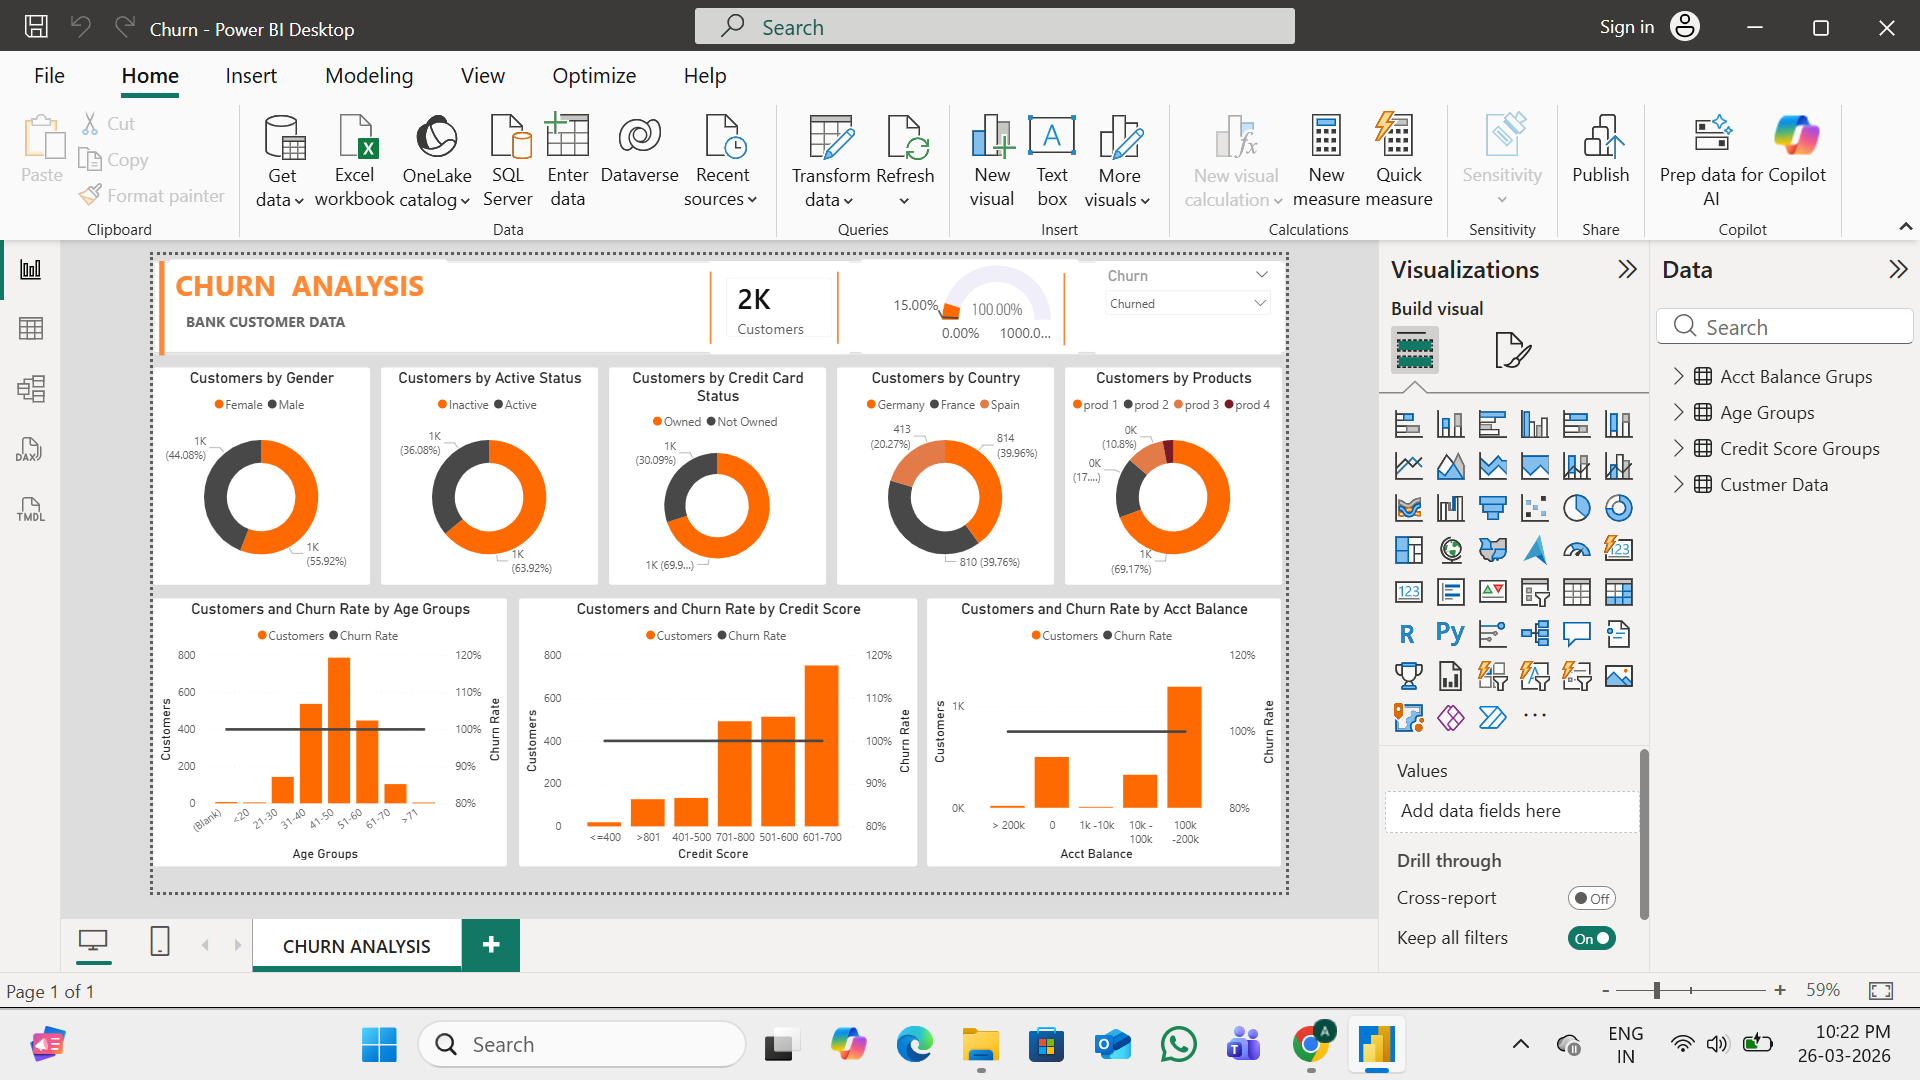

The dashboard page shown, as its layout file describes it:
{"tool":"powerbi","page":{"name":"CHURN ANALYSIS","canvas":[1280,720],"ordinal":0},"visuals":[{"type":"shape","box":[0,6.5,1280.8,105.2],"z":0},{"type":"cardVisual","fields":{"Data":["Custmer Data.Customers"]},"box":[628.3,6.5,158.7,105.2],"z":1000},{"type":"donutChart","fields":{"Category":["Custmer Data.Gender"],"Y":["Custmer Data.Customers"]},"box":[0,126.3,245,245],"z":2000},{"type":"donutChart","fields":{"Category":["Custmer Data.Active Status"],"Y":["Custmer Data.Customers"]},"box":[257.5,126.3,245,245],"z":3000},{"type":"donutChart","fields":{"Y":["Custmer Data.Customers"],"Category":["Custmer Data.Credit Card Status"]},"box":[514.9,126.3,245,245],"z":4000},{"type":"donutChart","fields":{"Y":["Custmer Data.Customers"],"Category":["Custmer Data.Country"]},"box":[772.4,126.3,245,245],"z":5000},{"type":"donutChart","fields":{"Category":["Custmer Data.Products"],"Y":["Custmer Data.Customers"]},"box":[1029.8,126.3,245,245],"z":6000},{"type":"lineStackedColumnComboChart","fields":{"Category":["Age Groups.Age Groups"],"Y":["Custmer Data.Customers"],"Y2":["Custmer Data.Churn Rate"]},"box":[0,388.6,399.9,302.8],"z":7000},{"type":"lineStackedColumnComboChart","fields":{"Y":["Custmer Data.Customers"],"Y2":["Custmer Data.Churn Rate"],"Category":["Custmer Data.Credit Score"]},"box":[412.9,388.6,450.1,302.8],"z":8000},{"type":"lineStackedColumnComboChart","fields":{"Y":["Custmer Data.Customers"],"Y2":["Custmer Data.Churn Rate"],"Category":["Acct Balance Grups.Acct Balance"]},"box":[874.4,388.6,399.9,302.8],"z":9000},{"type":"slicer","fields":{"Values":["Custmer Data.Churn"]},"box":[1063.8,6.5,210.5,105.2],"z":10000},{"type":"gauge","fields":{"Y":["Custmer Data.Churn Rate"],"MinValue":["Min(Custmer Data.Min Churn Rate)"],"MaxValue":["Max(Custmer Data.Max Churn Rate)"],"TargetValue":["Max(Custmer Data.Target Churn Rate)"]},"box":[799.9,4.9,246.1,106.9],"z":11000},{"type":"textbox","box":[19.4,4.9,314.1,63.1],"z":12000},{"type":"textbox","box":[30.8,58.3,213.7,38.9],"z":13000},{"type":"shape","box":[620.2,16.2,19.4,85.8],"z":14000},{"type":"shape","box":[759.4,16.2,29.1,85.8],"z":15000},{"type":"shape","box":[1015.3,17.8,29.1,85.8],"z":16000},{"type":"shape","box":[0,6.5,20,106.9],"z":17000}]}

Visuals, with their boxes on the page's 1280x720 design canvas (x1, y1, x2, y2). These are canvas units, not pixel positions in the 1920x1080 screenshot, which may show the page scaled, cropped or inside an application window:
shape: (left=0, top=6, right=1281, bottom=112)
cardVisual - Custmer Data.Customers: (left=628, top=6, right=787, bottom=112)
donutChart - Custmer Data.Gender x Custmer Data.Customers: (left=0, top=126, right=245, bottom=371)
donutChart - Custmer Data.Active Status x Custmer Data.Customers: (left=258, top=126, right=502, bottom=371)
donutChart - Custmer Data.Customers x Custmer Data.Credit Card Status: (left=515, top=126, right=760, bottom=371)
donutChart - Custmer Data.Customers x Custmer Data.Country: (left=772, top=126, right=1017, bottom=371)
donutChart - Custmer Data.Products x Custmer Data.Customers: (left=1030, top=126, right=1275, bottom=371)
lineStackedColumnComboChart - Age Groups.Age Groups x Custmer Data.Customers: (left=0, top=389, right=400, bottom=691)
lineStackedColumnComboChart - Custmer Data.Customers x Custmer Data.Churn Rate: (left=413, top=389, right=863, bottom=691)
lineStackedColumnComboChart - Custmer Data.Customers x Custmer Data.Churn Rate: (left=874, top=389, right=1274, bottom=691)
slicer - Custmer Data.Churn: (left=1064, top=6, right=1274, bottom=112)
gauge - Custmer Data.Churn Rate x Min(Custmer Data.Min Churn Rate): (left=800, top=5, right=1046, bottom=112)
textbox: (left=19, top=5, right=334, bottom=68)
textbox: (left=31, top=58, right=244, bottom=97)
shape: (left=620, top=16, right=640, bottom=102)
shape: (left=759, top=16, right=788, bottom=102)
shape: (left=1015, top=18, right=1044, bottom=104)
shape: (left=0, top=6, right=20, bottom=113)
